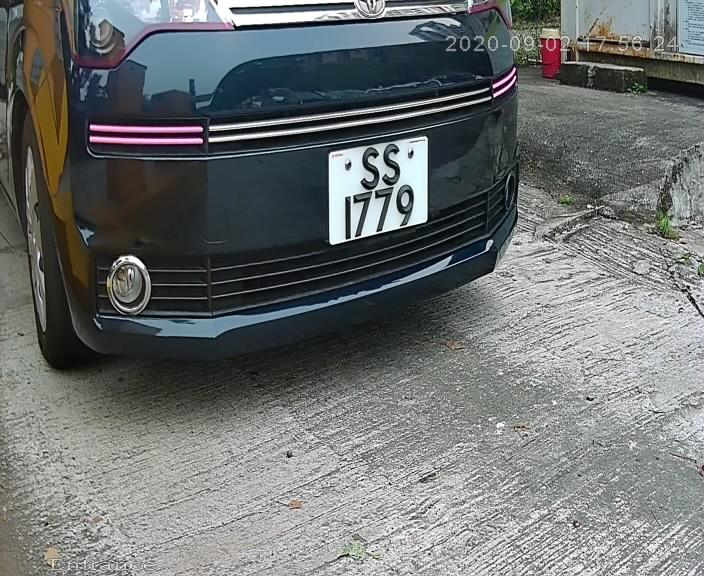License Plate: (315, 127, 441, 255)
